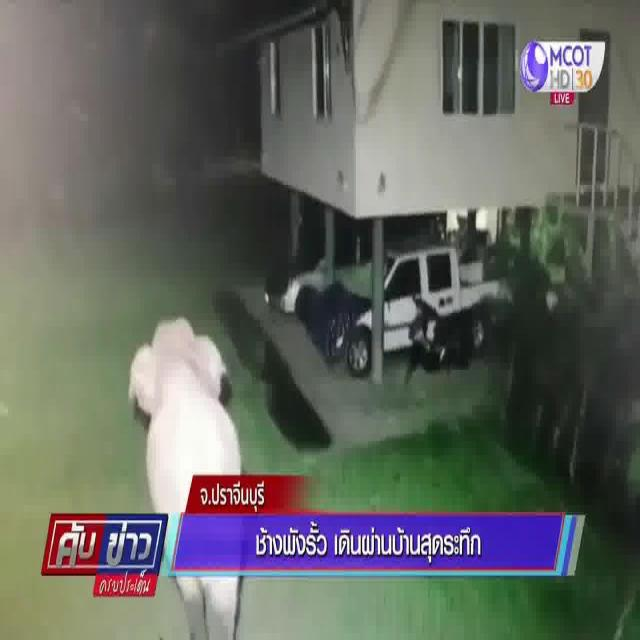Elephant: (114, 305, 245, 476)
